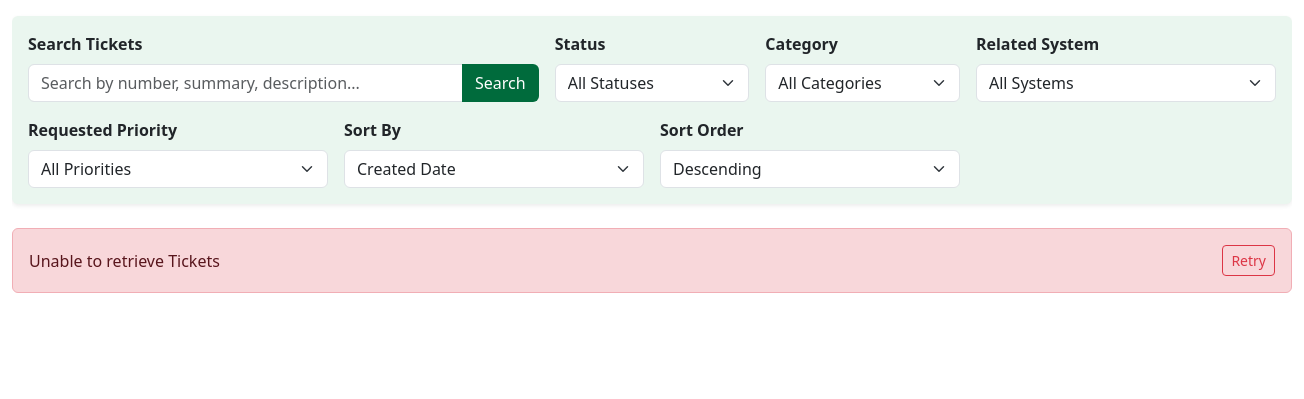
Scenario: MyTickets Component (Issue #14) › Error Handling & Retry › displays error message and Retry button when API fails
Expected: the text "Unable to retrieve Tickets" is shown, [29,248,220,272]
Click the button "Retry" at (1249, 260), box [1222,245,1275,276]
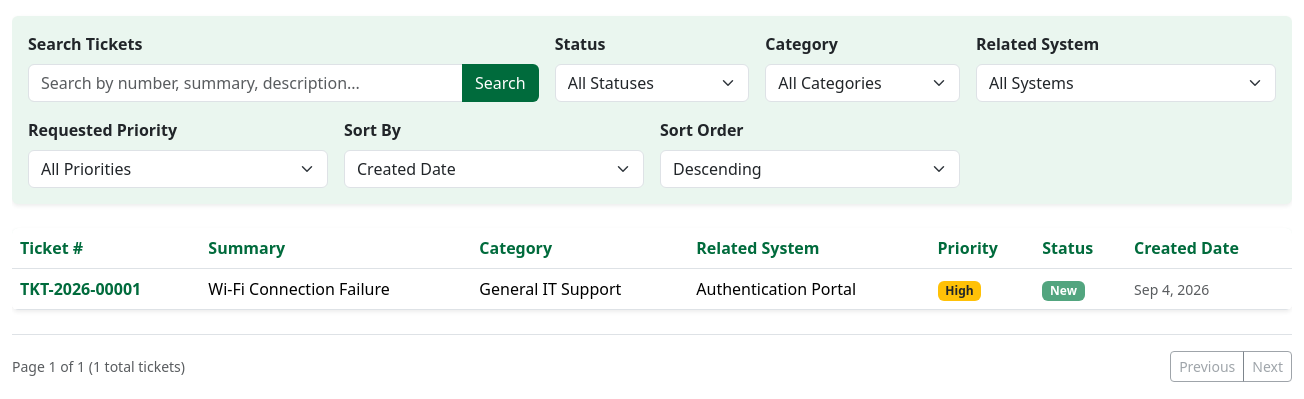
Expected: the text "TKT-2026-00001" is shown, [12,268,200,310]
